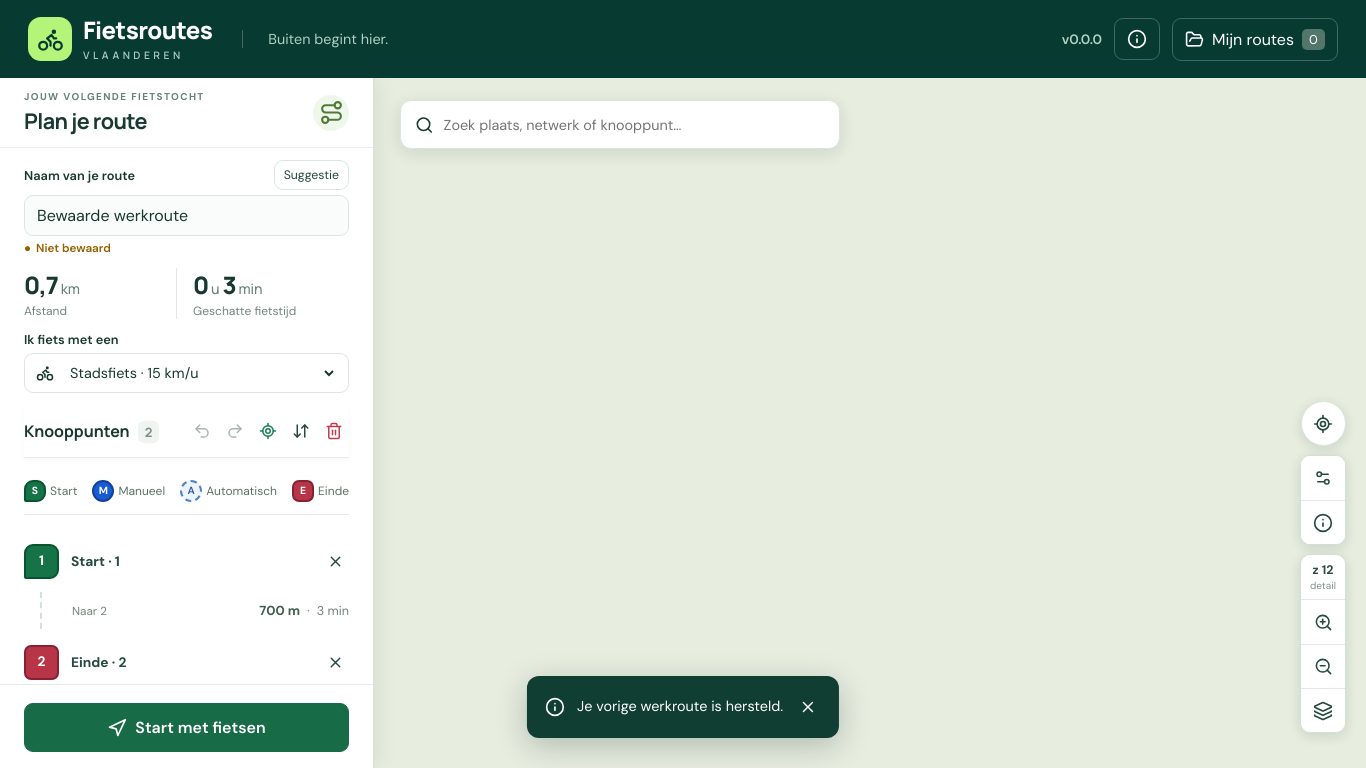
Scenario: start met rijrichting bovenaan en laat de navigatieknop schakelen naar noord
Click the button "Start met fietsen".
click(186, 728)  # box [24, 703, 349, 752]
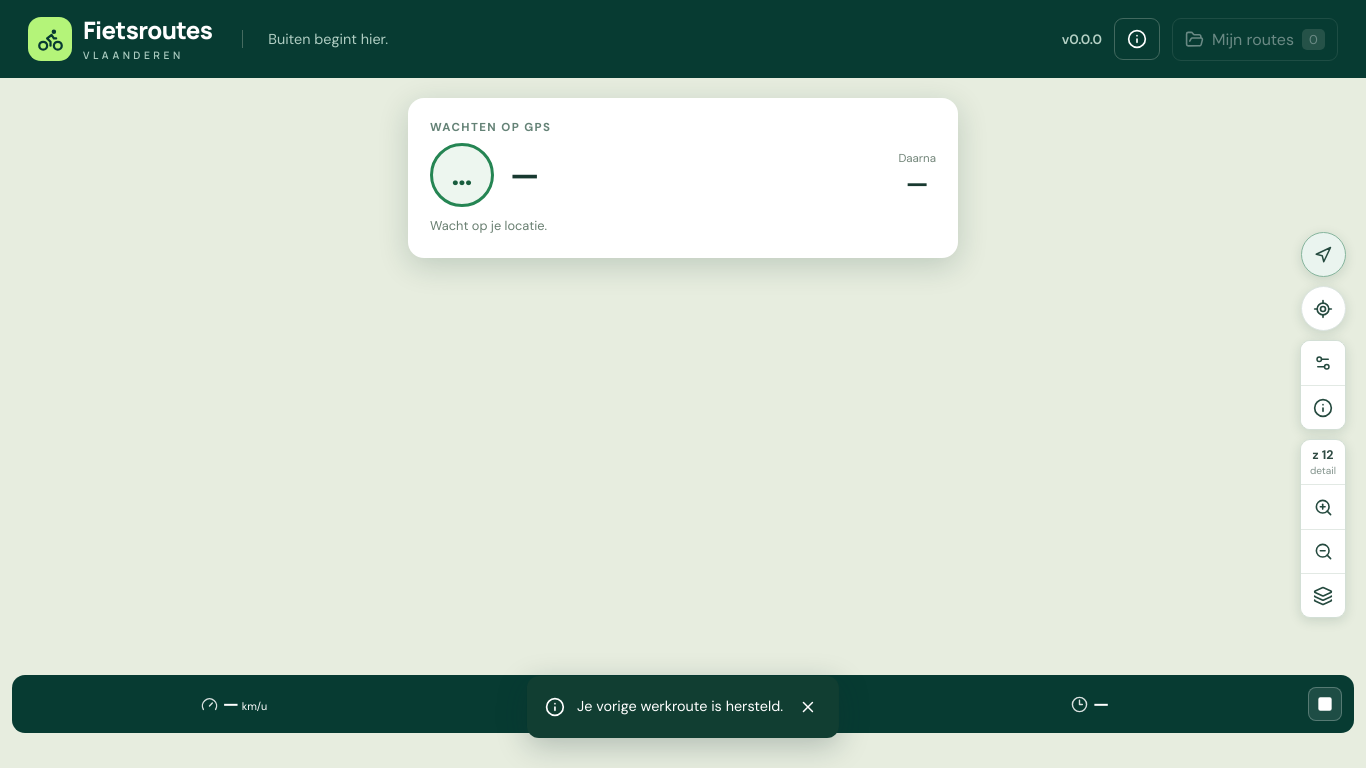
Check: the button named "Toerisme" is shown, box [1301, 385, 1345, 429]
Click the button named "Rijrichting bovenaan".
click(1323, 255)  # box [1300, 232, 1346, 277]
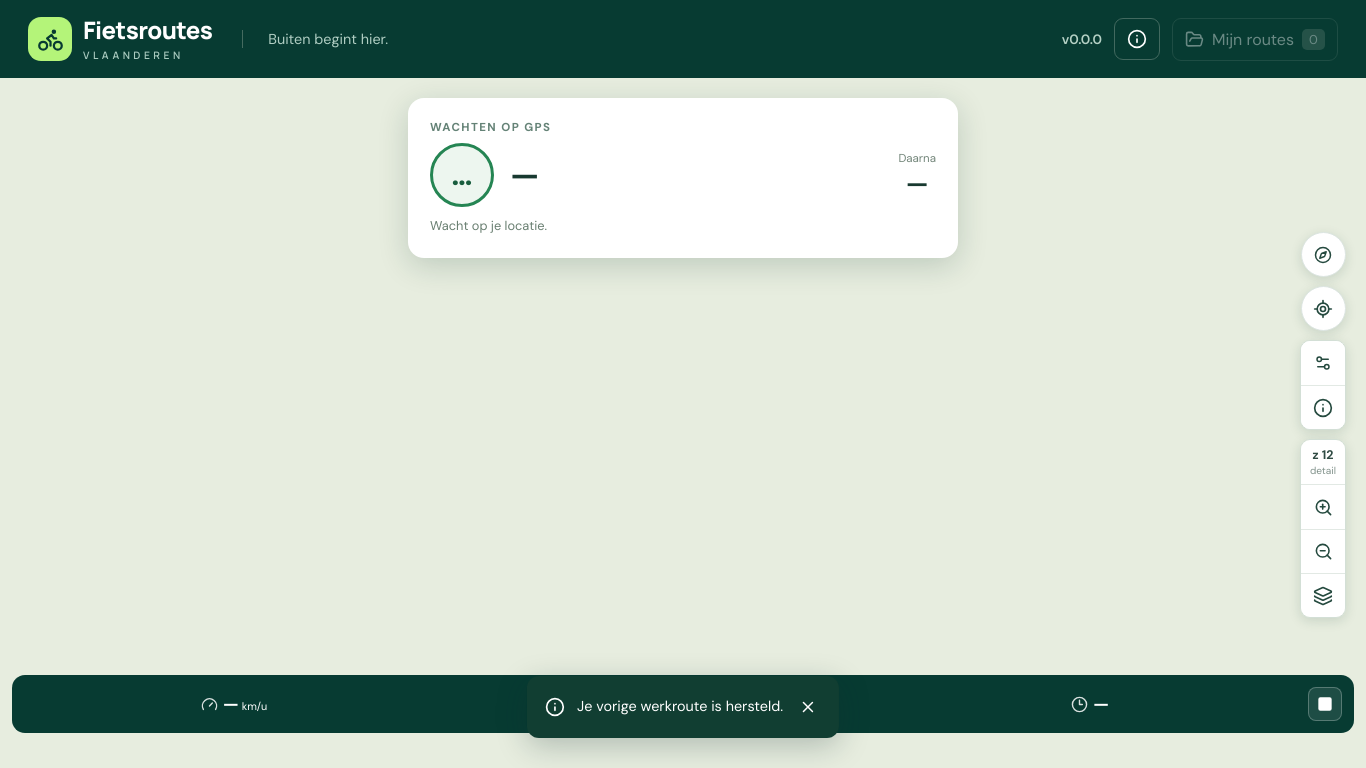
Check: the button named "Rijrichting bovenaan" is empty, box [1300, 232, 1346, 277]
